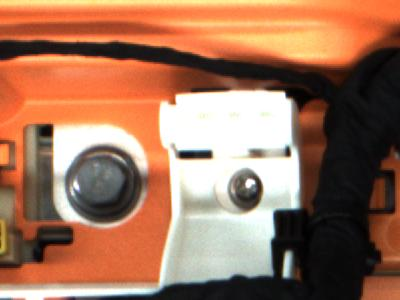nut_b: (65, 143, 144, 228)
